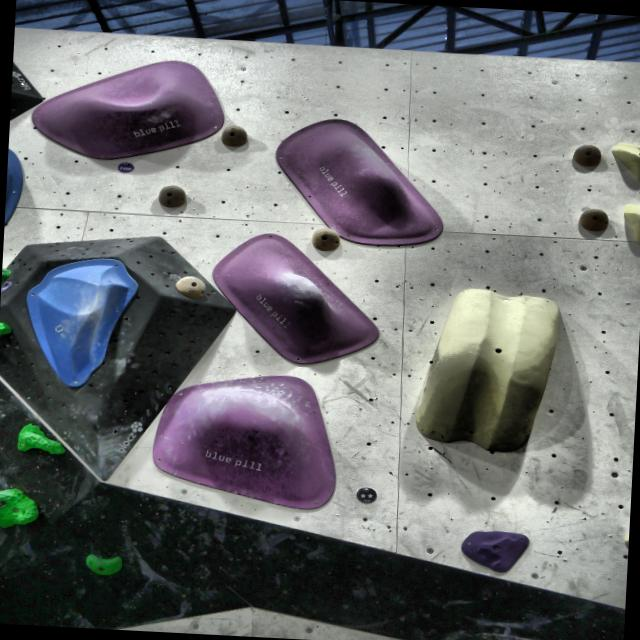Hold: (398, 268, 566, 454), (156, 372, 354, 520), (268, 103, 457, 250), (204, 228, 399, 364), (29, 56, 237, 166), (29, 255, 141, 392), (455, 521, 525, 573), (17, 420, 76, 462), (78, 544, 138, 580), (606, 130, 640, 190), (0, 479, 47, 521), (618, 195, 640, 250)
